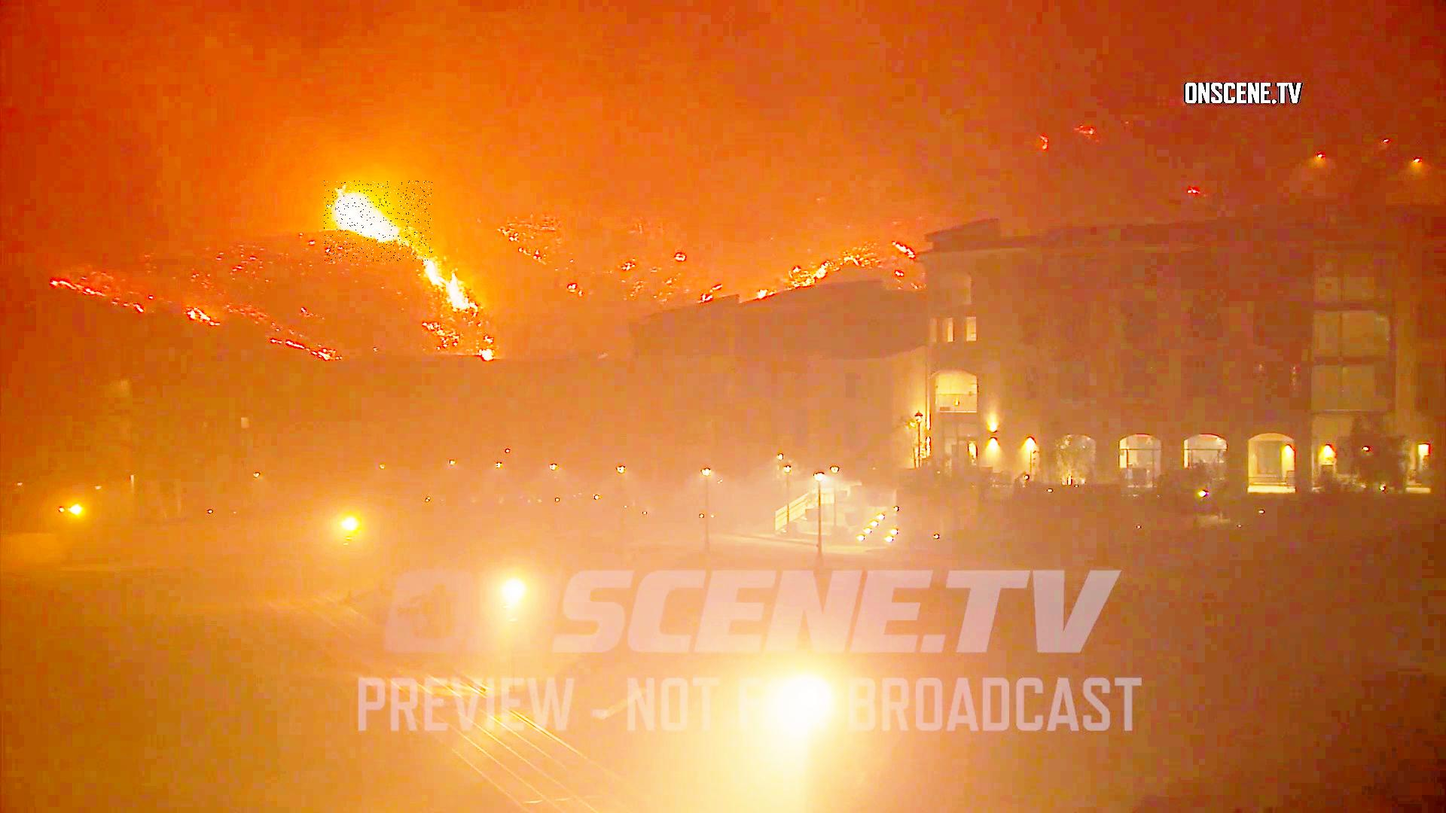fire: (324, 181, 433, 261)
